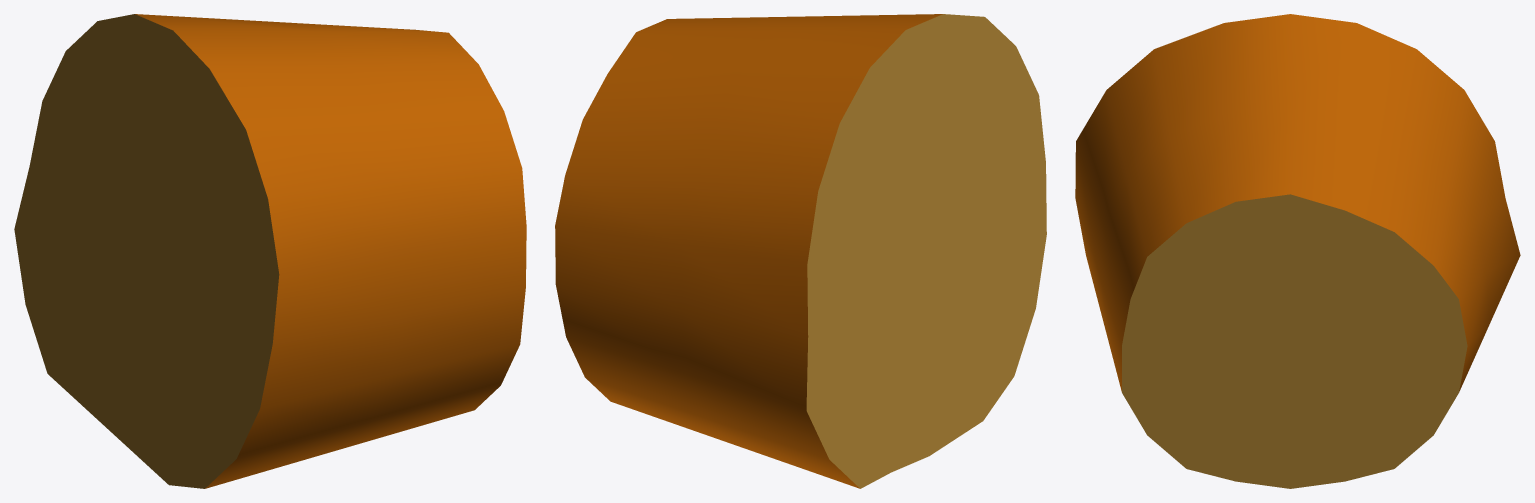
The model's file is mesh_CarrotSlice_Stage06.fbx.
3 renders of one model, left to right at view 1: azimuth 30°, elevation 25°; view 2: azimuth 150°, elevation 25°; view 3: azimuth 270°, elevation 25°, orthographic. The views are drawn at different scales.
Visible parts, largest first — view 1: mesh_CarrotSlice_Stage06; view 2: mesh_CarrotSlice_Stage06; view 3: mesh_CarrotSlice_Stage06.
Part boxes in pixels (<box>): mesh_CarrotSlice_Stage06: <box>14,14,526,488</box>; mesh_CarrotSlice_Stage06: <box>555,14,1046,488</box>; mesh_CarrotSlice_Stage06: <box>1075,14,1520,488</box>.
Bounding box in the file's own units: 0.0208 × 0.0269 × 0.0286.
